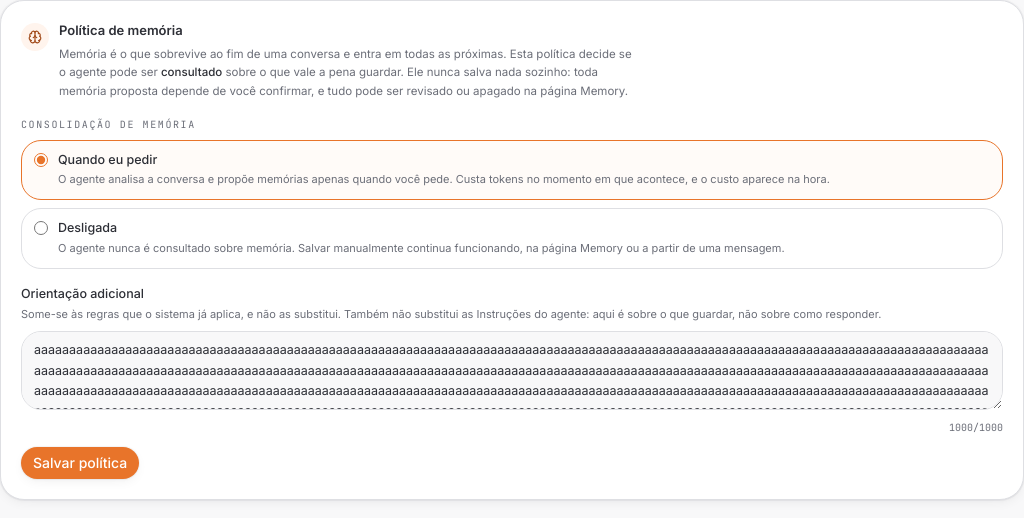
Test: MemoryPolicyCard › refuses to save guidance past the ceiling, before asking the server
Type "b" into the text box labelled "Orientação adicional" at (512, 371), box [21,331,1003,410]
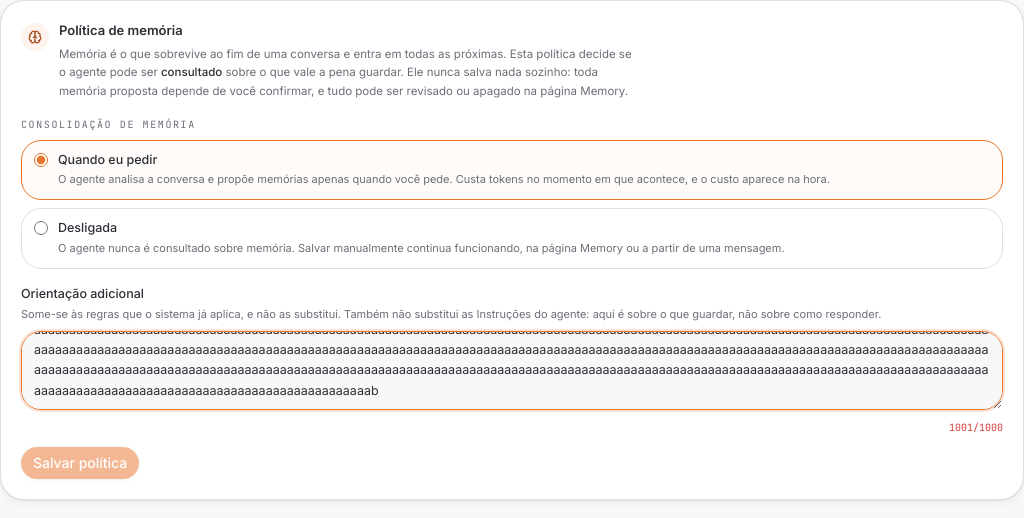
Now the button "Salvar política" is disabled, box [21,447,139,479]
Now the text "1001/1000" is shown, box [949,421,1003,434]
